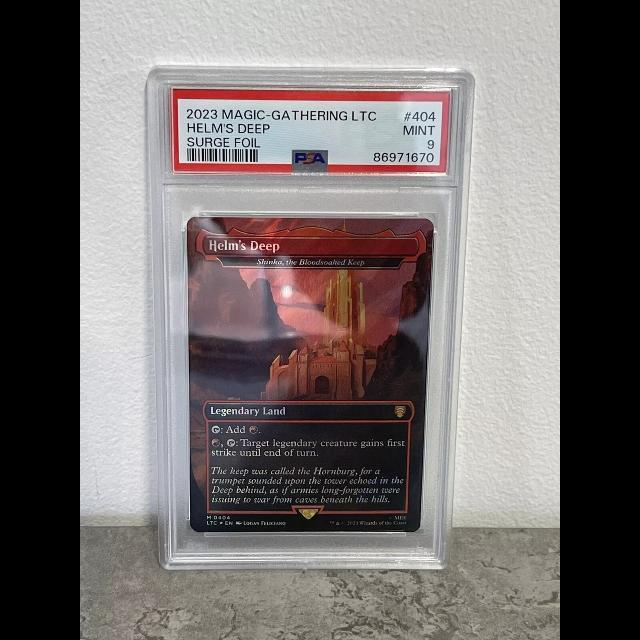card: (187, 215, 435, 533)
psa_label: (173, 89, 451, 173)
psa_slab: (145, 67, 476, 571)
